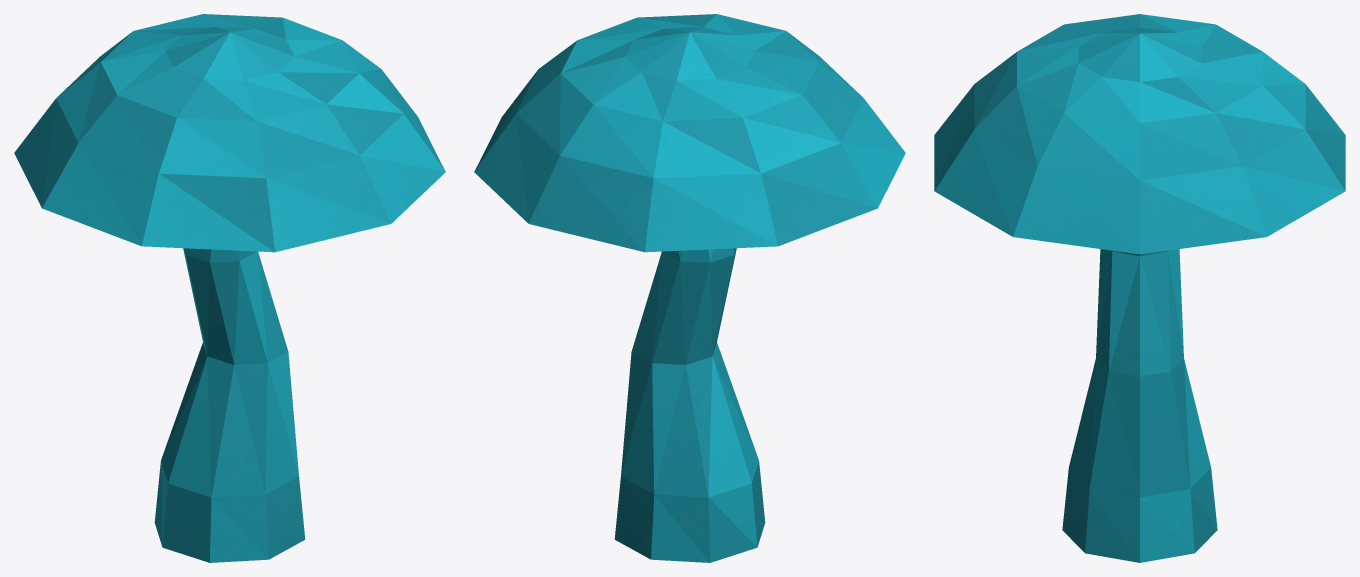
The model's file is Mushroom_Single_4.fbx.
3 renders of one model, left to right at view 1: azimuth 30°, elevation 25°; view 2: azimuth 150°, elevation 25°; view 3: azimuth 270°, elevation 25°, orthographic.
Visible parts, largest first — view 1: polySurface707; view 2: polySurface707; view 3: polySurface707.
Part boxes in pixels (x1,y1,x2,y2): polySurface707: (14, 14, 445, 562); polySurface707: (474, 14, 905, 562); polySurface707: (934, 14, 1345, 562).
Size of the model in its own units: 111 by 141 by 106.
Materials: 1 (1 with a texture image).
